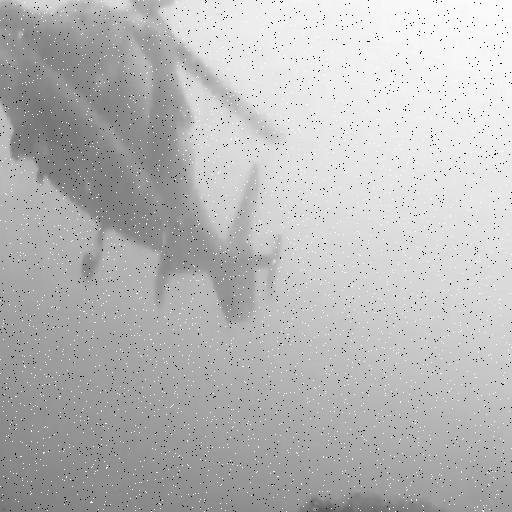helicopter: (1, 1, 299, 326)
